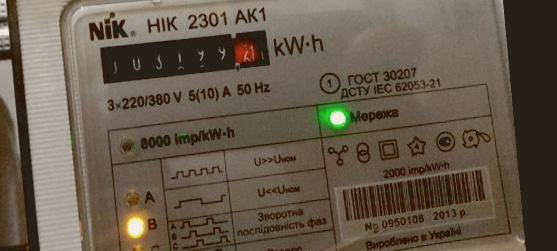0: (129, 52, 142, 72), (106, 55, 117, 74)
1: (173, 45, 183, 64)
3: (151, 50, 163, 71)
6: (239, 47, 250, 62)
9: (194, 42, 205, 63), (216, 42, 227, 61)
screen: (90, 20, 277, 90)
